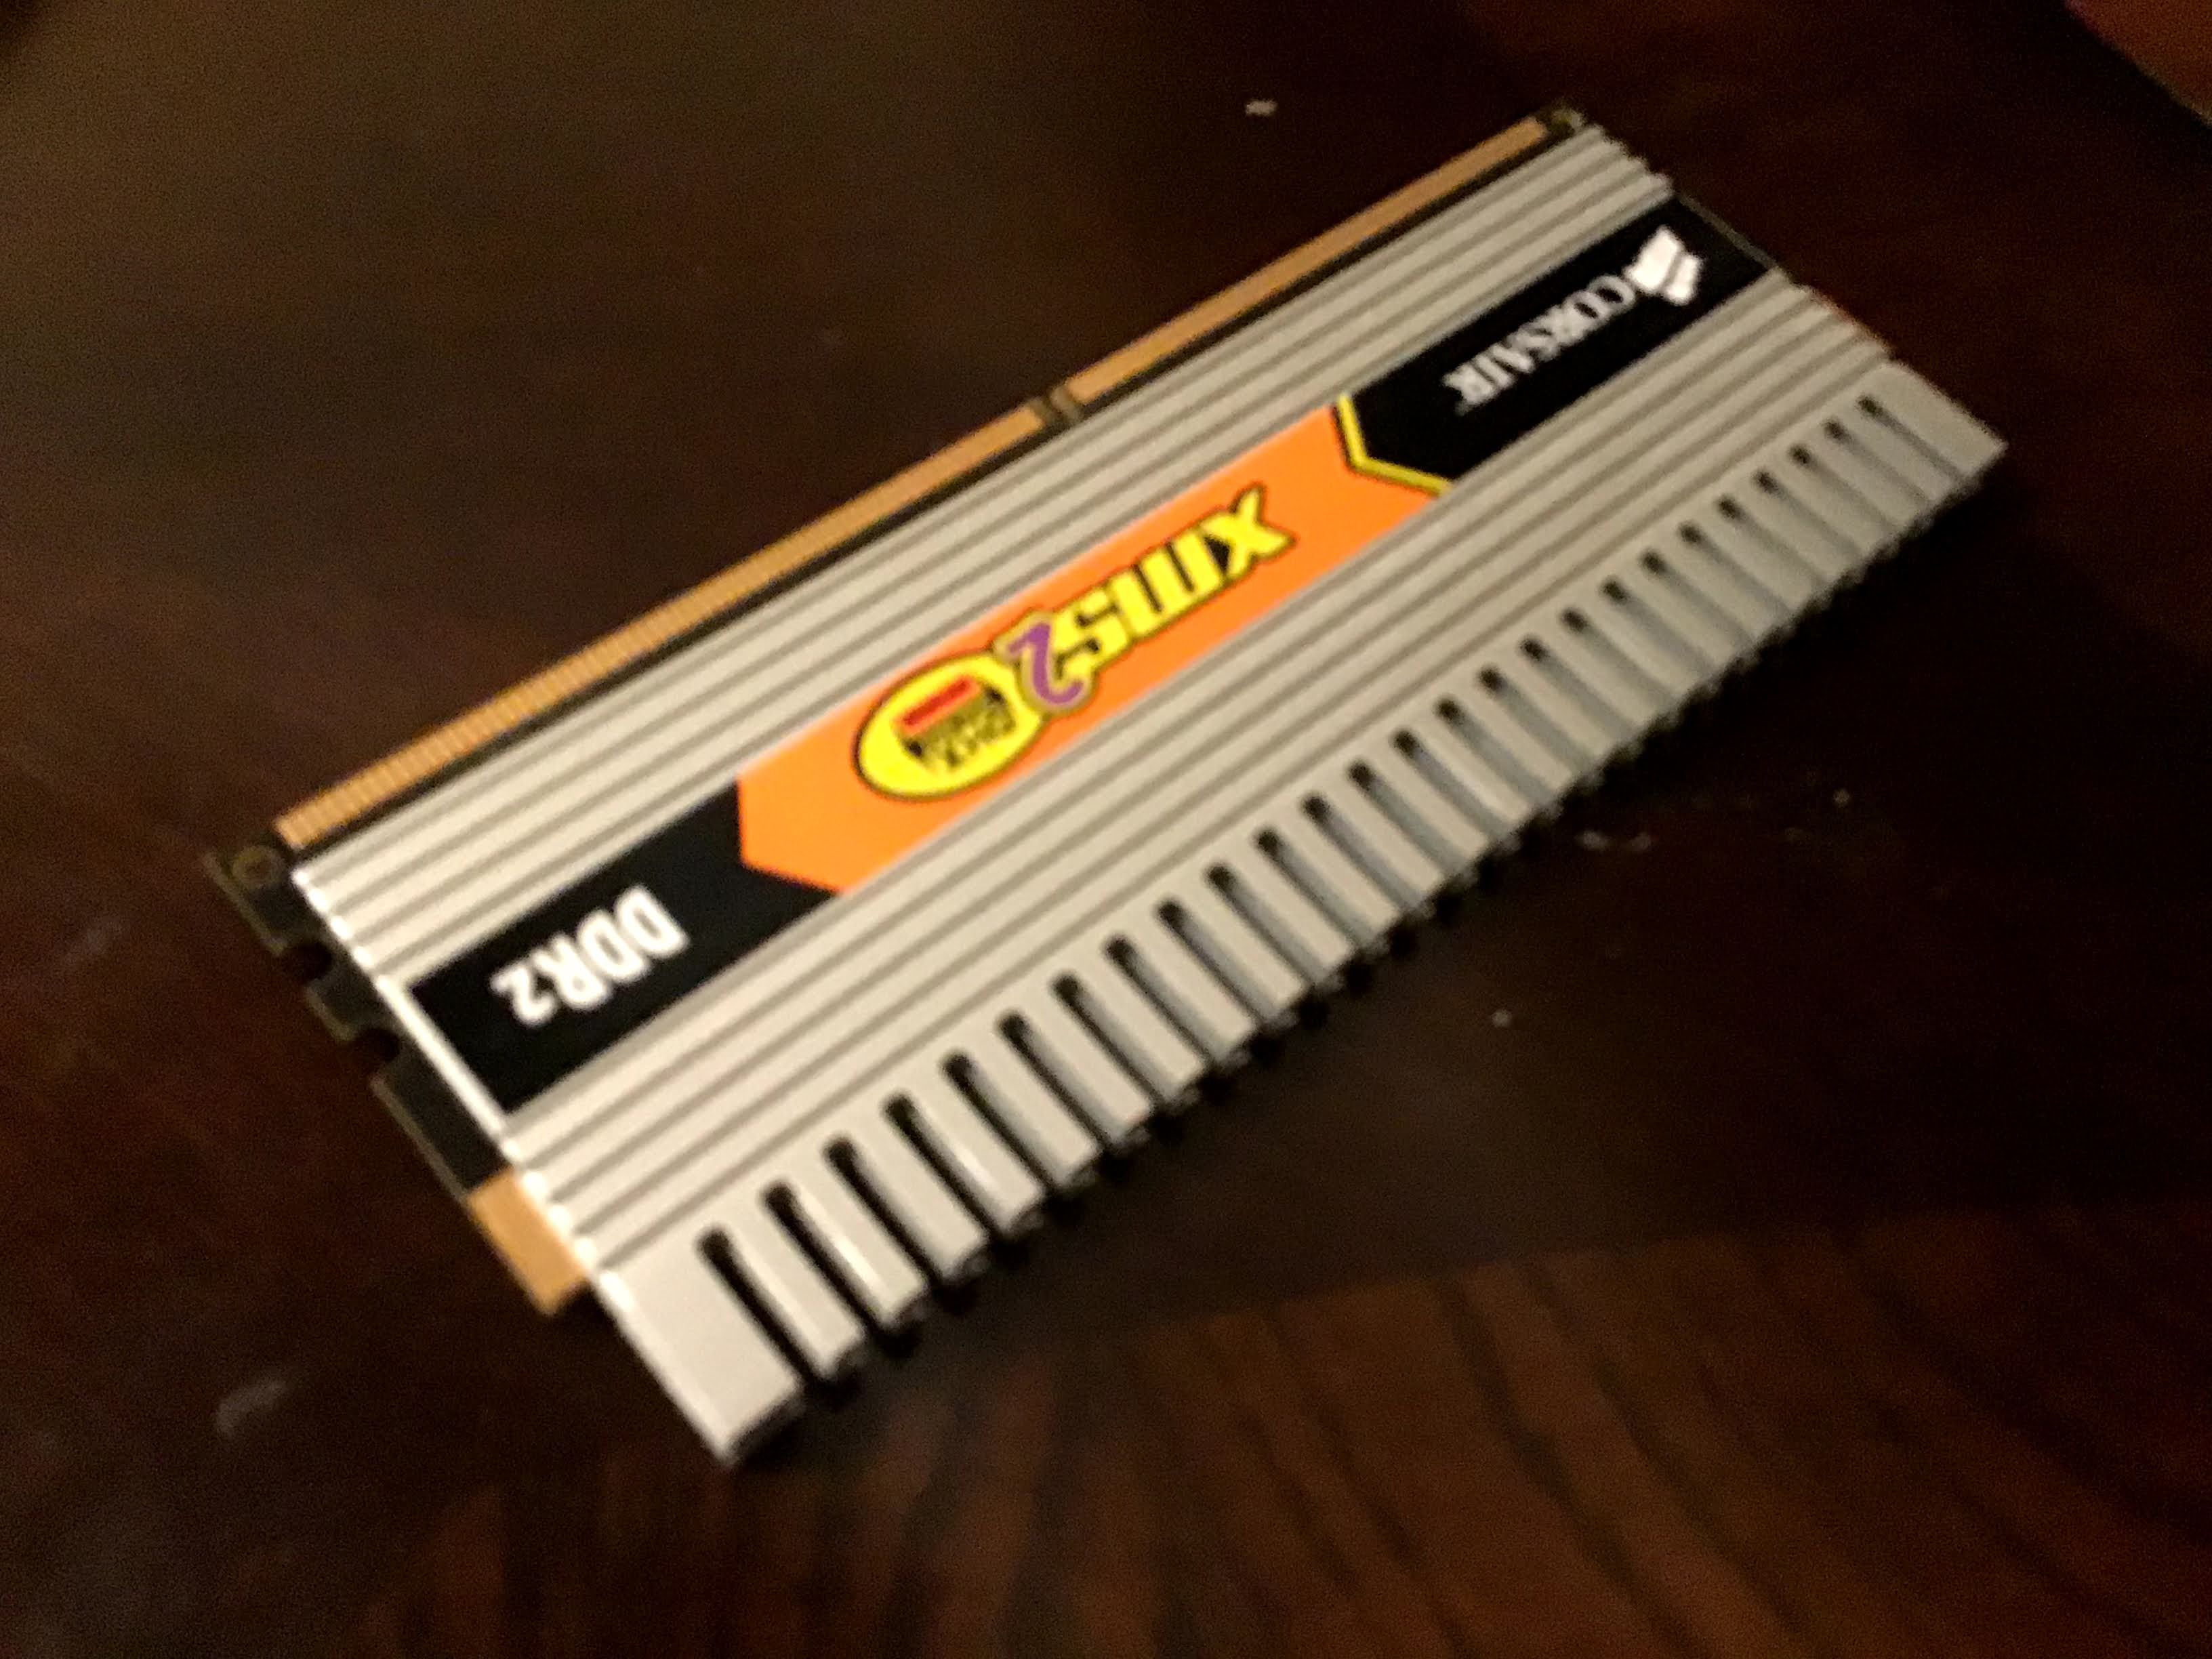Space-debris-medium: (136, 110, 2067, 1499)
